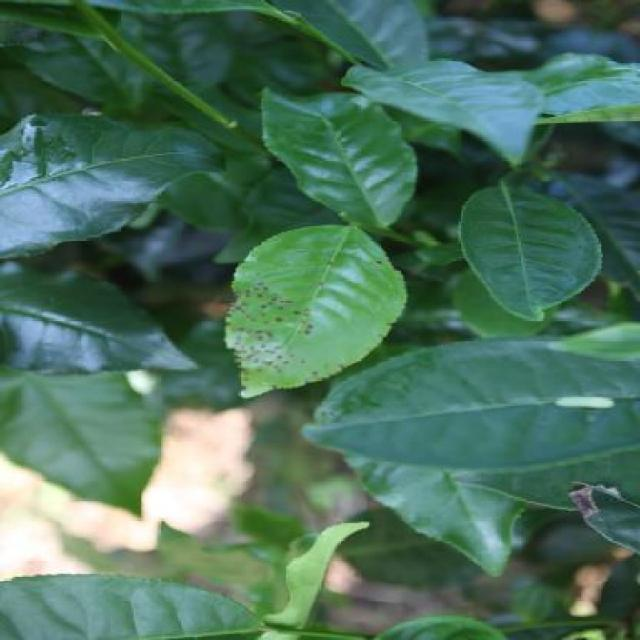Tea Mosquito bug infested leaf: (217, 218, 388, 408)
